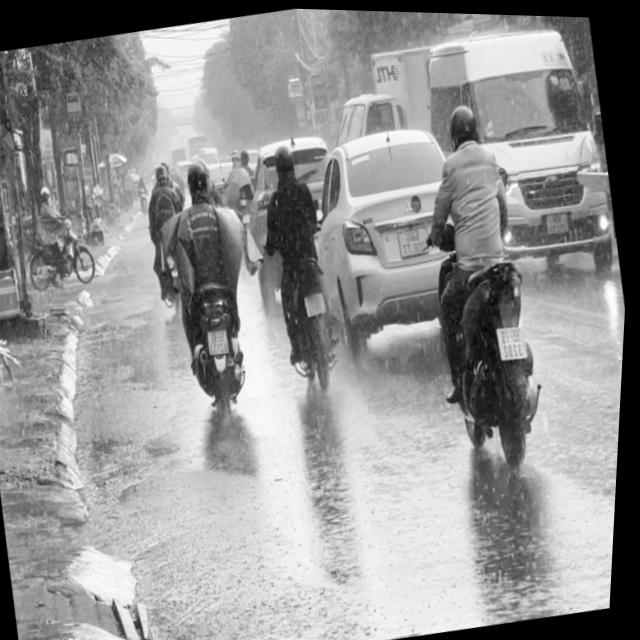helmet: (447, 97, 484, 145), (183, 154, 216, 201), (273, 138, 301, 180)
licenseplate: (393, 86, 575, 480), (149, 146, 283, 432), (248, 132, 359, 390)
nohelmet: (499, 321, 531, 356), (210, 329, 233, 354), (307, 289, 329, 314)
